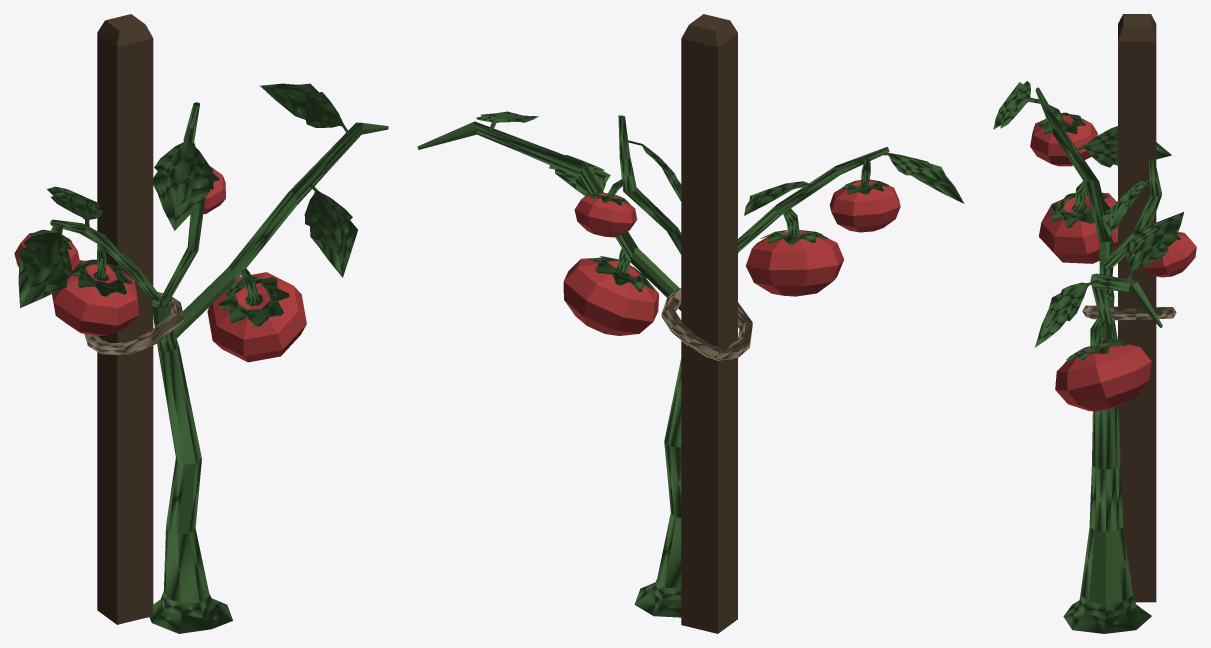
The model's file is asset-pack---farm-lp--aniball-rumble-aa6891.glb.
3 renders of one model, left to right at view 1: azimuth 30°, elevation 25°; view 2: azimuth 150°, elevation 25°; view 3: azimuth 270°, elevation 25°, orthographic. The views are drawn at different scales.
Visible parts, largest first — view 1: PropMesh; view 2: PropMesh; view 3: PropMesh.
Part boxes in pixels (x1=…): PropMesh: x1=14, y1=14, x2=388, y2=633; PropMesh: x1=417, y1=14, x2=964, y2=633; PropMesh: x1=993, y1=14, x2=1196, y2=633.
Bounding box in the file's own units: 0.8016 × 1 × 0.3213.
Materials: 1 (1 with a texture image).
